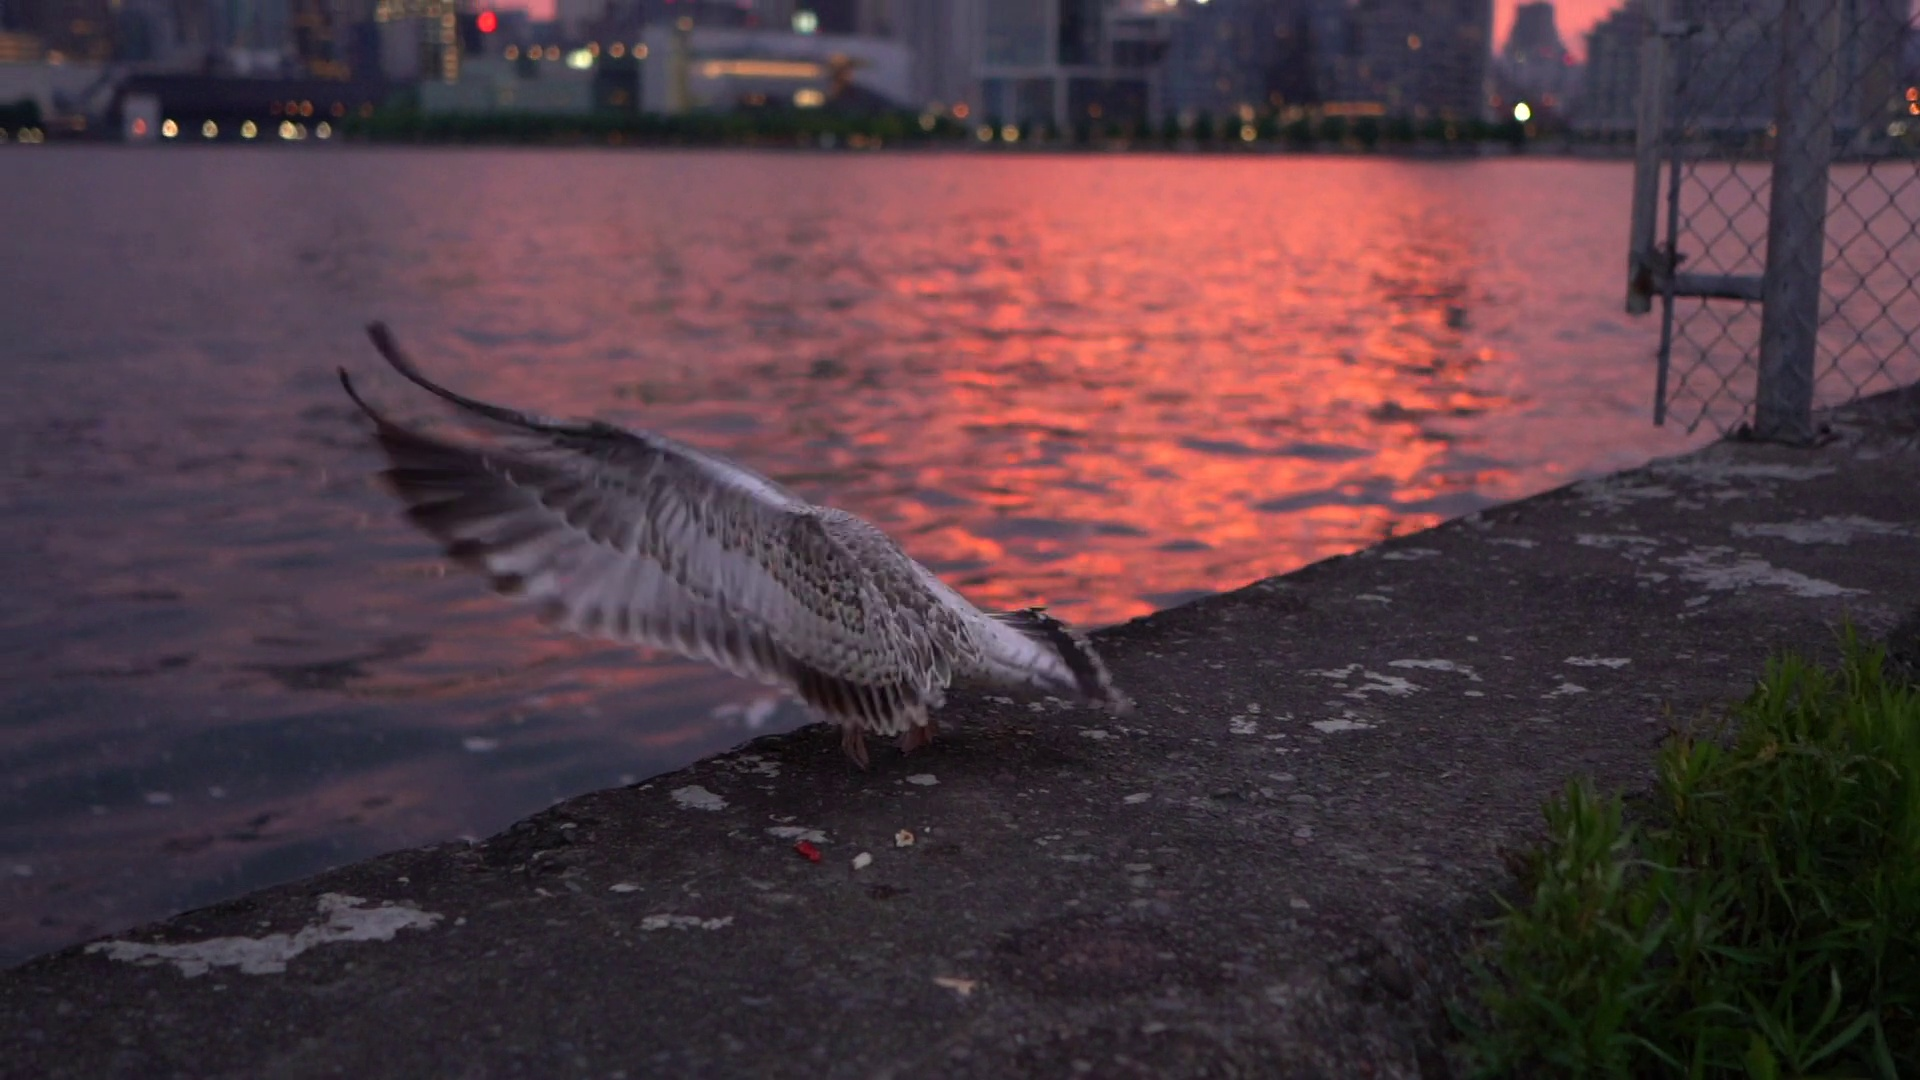bird: (343, 316, 1139, 771)
